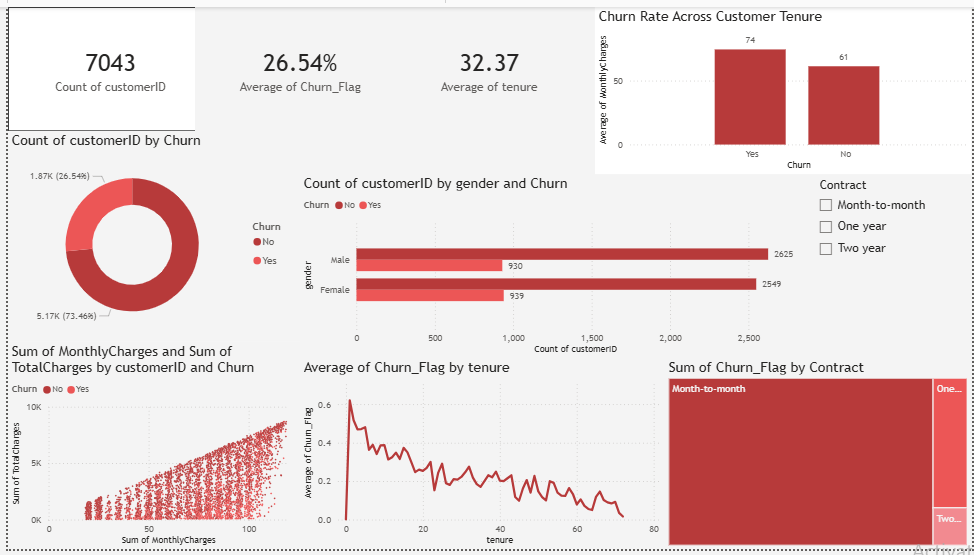

What the dashboard file says about the page in this screenshot:
{"tool":"powerbi","page":{"name":"Dashboard","canvas":[1280,720],"ordinal":0},"visuals":[{"type":"card","fields":{"Values":["CountNonNull(Telco-Customer-Churn CSV.customerID)"]},"box":[0,0,272.3,164.7],"z":0},{"type":"card","fields":{"Values":["Avg(Telco-Customer-Churn CSV.Churn_Flag)"]},"box":[247.8,0,279.7,165.2],"z":1000},{"type":"card","fields":{"Values":["Avg(Telco-Customer-Churn CSV.tenure)"]},"box":[500,0,279.7,165.2],"z":2000},{"type":"donutChart","fields":{"Category":["Telco-Customer-Churn CSV.Churn"],"Y":["CountNonNull(Telco-Customer-Churn CSV.customerID)"]},"box":[0,164.7,387.9,280.3],"z":3000},{"type":"clusteredBarChart","fields":{"Category":["Telco-Customer-Churn CSV.gender"],"Y":["CountNonNull(Telco-Customer-Churn CSV.customerID)"],"Series":["Telco-Customer-Churn CSV.Churn"]},"box":[387.9,221.8,677.5,244.4],"z":4000},{"type":"scatterChart","fields":{"X":["Sum(Telco-Customer-Churn CSV.MonthlyCharges)"],"Y":["Sum(Telco-Customer-Churn CSV.TotalCharges)"],"Series":["Telco-Customer-Churn CSV.Churn"],"Category":["Telco-Customer-Churn CSV.customerID"]},"box":[0,445,387.9,275],"z":5000},{"type":"lineChart","fields":{"Category":["Telco-Customer-Churn CSV.tenure"],"Y":["Avg(Telco-Customer-Churn CSV.Churn_Flag)"]},"box":[387.9,466.3,484.9,253.7],"z":6000},{"type":"treemap","fields":{"Values":["Sum(Telco-Customer-Churn CSV.Churn_Flag)"],"Group":["Telco-Customer-Churn CSV.Contract"]},"box":[872.8,466.3,406.5,253.7],"z":7000},{"type":"slicer","fields":{"Values":["Telco-Customer-Churn CSV.Contract"]},"box":[1065.4,221.8,213.9,244.4],"z":8000},{"type":"clusteredColumnChart","title":"Churn Rate Across Customer Tenure","fields":{"Category":["Telco-Customer-Churn CSV.Churn"],"Y":["Avg(Telco-Customer-Churn CSV.MonthlyCharges)"]},"box":[779.7,0,500,221.7],"z":9000}]}

Visuals, with their boxes in screenshot pixels (x1, y1, x2, y2), scaled from the page's 1280x720 canvas onto the 974x555 screenshot:
card - CountNonNull(Telco-Customer-Churn CSV.customerID): {"left": 0, "top": 0, "right": 207, "bottom": 127}
card - Avg(Telco-Customer-Churn CSV.Churn_Flag): {"left": 189, "top": 0, "right": 401, "bottom": 127}
card - Avg(Telco-Customer-Churn CSV.tenure): {"left": 380, "top": 0, "right": 593, "bottom": 127}
donutChart - Telco-Customer-Churn CSV.Churn x CountNonNull(Telco-Customer-Churn CSV.customerID): {"left": 0, "top": 127, "right": 295, "bottom": 343}
clusteredBarChart - Telco-Customer-Churn CSV.gender x CountNonNull(Telco-Customer-Churn CSV.customerID): {"left": 295, "top": 171, "right": 811, "bottom": 359}
scatterChart - Sum(Telco-Customer-Churn CSV.MonthlyCharges) x Sum(Telco-Customer-Churn CSV.TotalCharges): {"left": 0, "top": 343, "right": 295, "bottom": 554}
lineChart - Telco-Customer-Churn CSV.tenure x Avg(Telco-Customer-Churn CSV.Churn_Flag): {"left": 295, "top": 359, "right": 664, "bottom": 554}
treemap - Sum(Telco-Customer-Churn CSV.Churn_Flag) x Telco-Customer-Churn CSV.Contract: {"left": 664, "top": 359, "right": 973, "bottom": 554}
slicer - Telco-Customer-Churn CSV.Contract: {"left": 811, "top": 171, "right": 973, "bottom": 359}
"Churn Rate Across Customer Tenure" clusteredColumnChart: {"left": 593, "top": 0, "right": 973, "bottom": 171}
